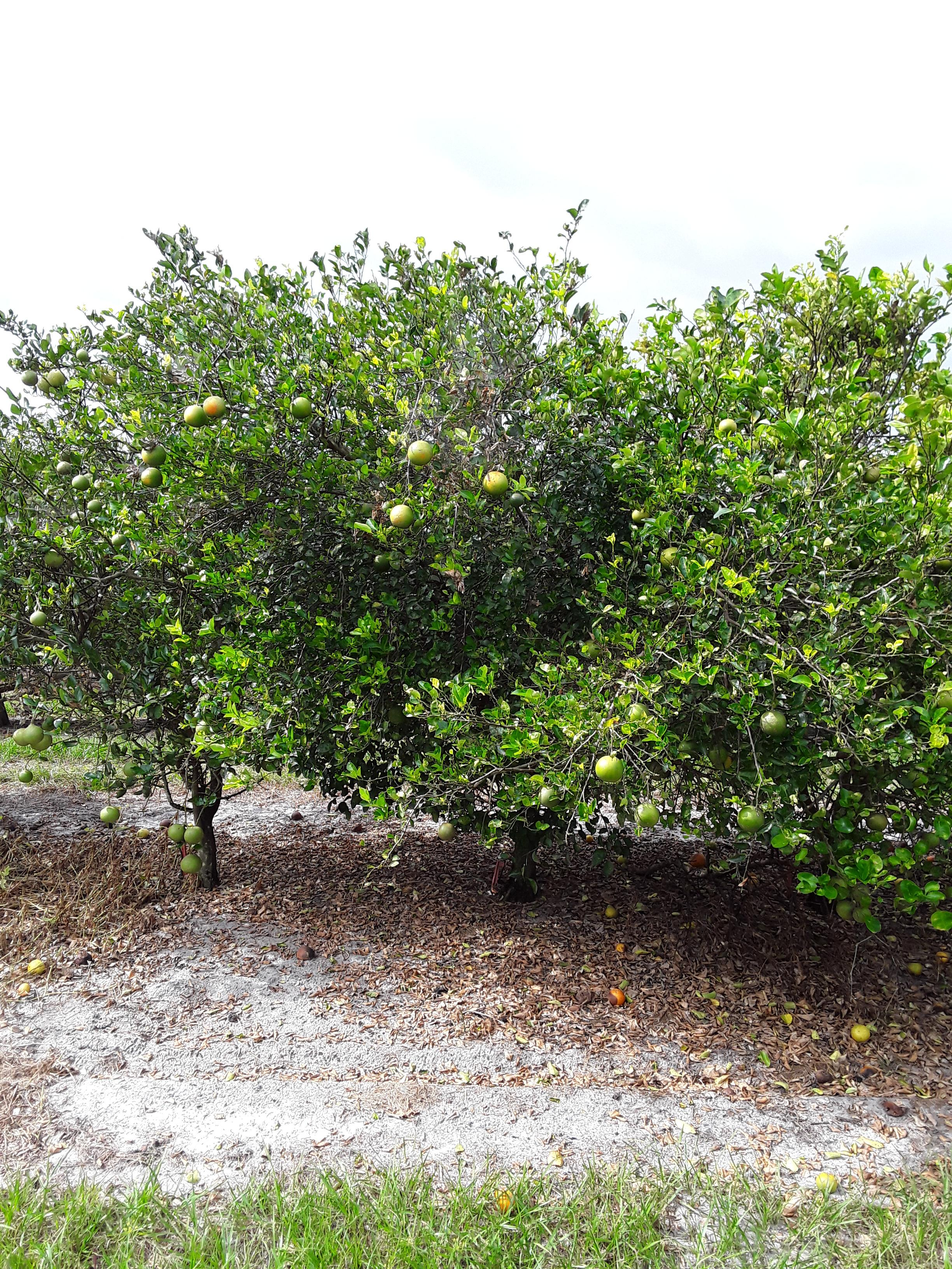fruit_on_ground: (759, 703, 789, 739), (894, 763, 932, 791), (593, 752, 625, 785), (631, 800, 661, 829), (140, 442, 170, 469), (202, 394, 231, 421), (644, 757, 676, 781), (846, 549, 875, 575), (536, 782, 562, 809), (22, 721, 46, 750), (484, 468, 507, 498), (850, 876, 873, 906), (183, 403, 209, 429), (623, 701, 649, 727), (893, 876, 919, 902), (677, 736, 705, 760), (408, 442, 431, 471), (394, 499, 417, 528), (660, 546, 685, 572), (183, 822, 205, 850), (99, 801, 121, 828), (742, 804, 763, 832), (289, 397, 314, 420), (707, 741, 728, 768), (629, 502, 652, 526), (582, 638, 606, 661), (180, 852, 205, 874), (834, 898, 857, 921), (866, 811, 890, 833), (42, 549, 67, 570), (140, 468, 166, 488), (935, 550, 952, 580), (936, 682, 952, 713), (861, 463, 883, 485), (717, 417, 741, 437), (30, 732, 54, 752), (29, 605, 48, 630), (35, 375, 56, 397), (388, 703, 409, 724), (437, 822, 458, 843), (46, 368, 67, 389), (71, 473, 93, 493), (919, 831, 942, 849), (373, 552, 393, 572), (167, 823, 188, 842), (19, 369, 40, 388), (12, 727, 32, 746), (122, 759, 142, 778), (651, 581, 669, 600), (713, 754, 732, 772), (100, 367, 118, 385), (260, 756, 280, 772), (56, 460, 74, 477), (195, 720, 212, 738), (509, 493, 529, 508), (58, 446, 75, 463), (87, 498, 103, 515), (110, 533, 128, 548), (18, 769, 36, 784), (76, 348, 91, 363)
fruit_on_tree: (489, 1185, 516, 1212), (878, 1096, 907, 1119), (850, 1020, 871, 1044), (26, 957, 48, 977), (687, 849, 708, 869), (857, 1061, 881, 1078), (905, 958, 923, 980), (295, 945, 316, 963), (74, 950, 95, 968), (813, 1067, 830, 1086), (933, 949, 952, 965), (610, 992, 626, 1011), (611, 985, 626, 1004), (137, 827, 154, 843), (350, 818, 365, 835), (612, 939, 627, 956), (616, 848, 630, 866), (602, 902, 616, 919), (289, 808, 304, 823), (583, 831, 595, 846)
